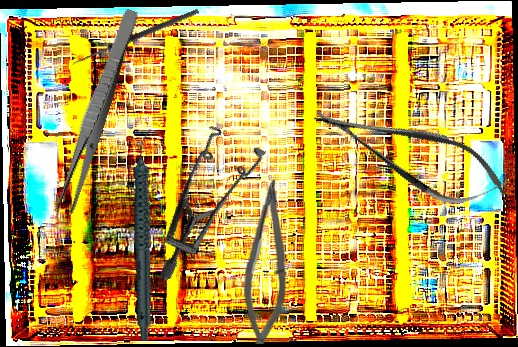Dressing Forceps: (53, 6, 141, 215)
Handpiece: (95, 127, 195, 342)
Hook Surgical: (70, 7, 203, 74)
Micro Scissor: (303, 82, 518, 225), (242, 179, 289, 345)
Speculum: (108, 108, 298, 283)
